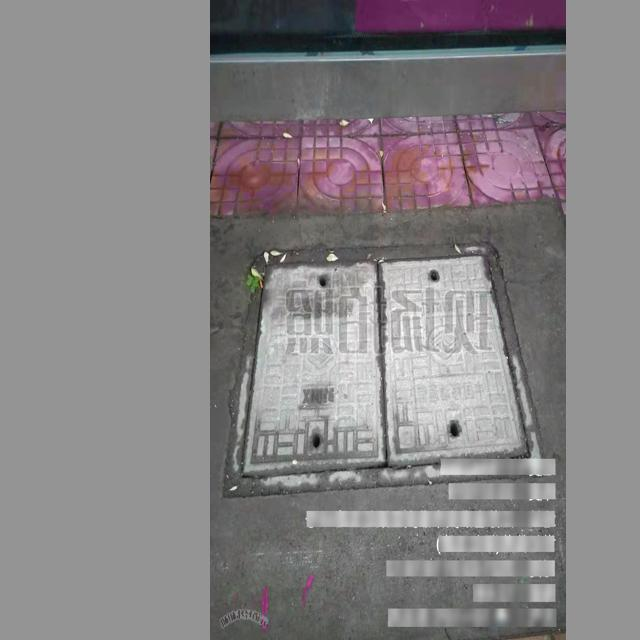good: (226, 242, 542, 498)
